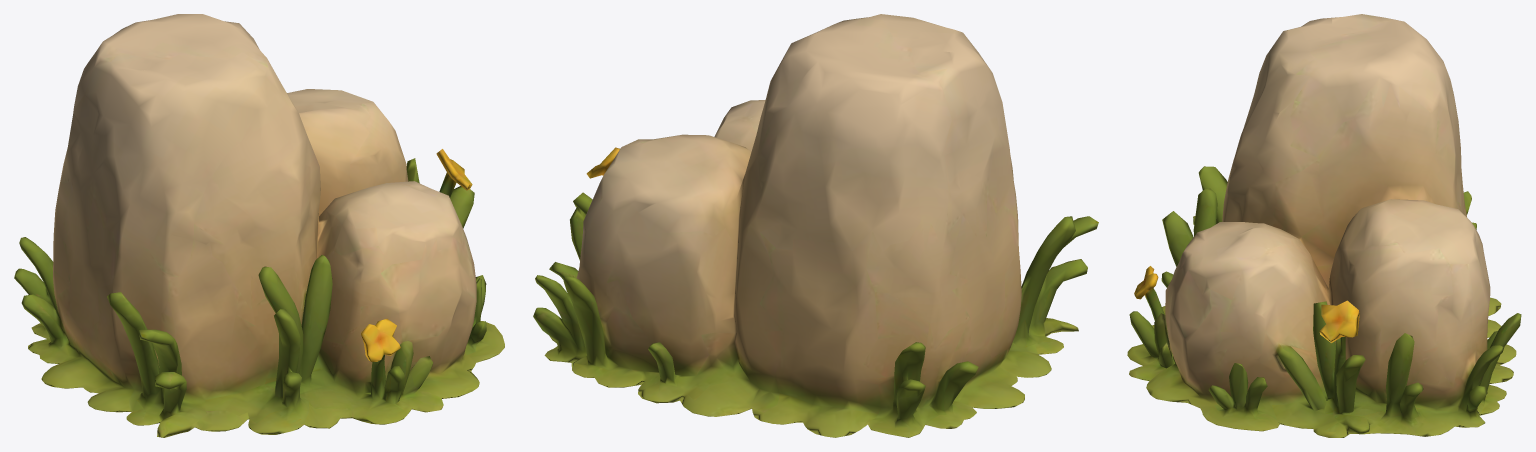
The model's file is rocks.glb.
3 views of the same model, side by side, from view 1: azimuth 30°, elevation 25°; view 2: azimuth 150°, elevation 25°; view 3: azimuth 270°, elevation 25° (orthographic). The views are drawn at different scales.
Visible parts, largest first — view 1: tripo_node_92a59867-85d6-4ccf-a7bc-7906af8f8f86; view 2: tripo_node_92a59867-85d6-4ccf-a7bc-7906af8f8f86; view 3: tripo_node_92a59867-85d6-4ccf-a7bc-7906af8f8f86.
Boxes of the visible parts, box(x1,y1,x2,y2) form: tripo_node_92a59867-85d6-4ccf-a7bc-7906af8f8f86: box(14, 14, 504, 437); tripo_node_92a59867-85d6-4ccf-a7bc-7906af8f8f86: box(533, 14, 1098, 437); tripo_node_92a59867-85d6-4ccf-a7bc-7906af8f8f86: box(1127, 14, 1521, 437).
Size of the model in its own units: 1 by 0.6941 by 0.8883.
Materials: 1 (1 with a texture image).
